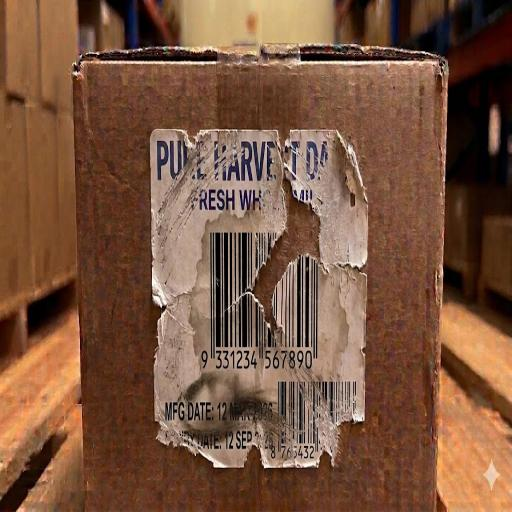damaged_labelrotation: (157, 138, 366, 467)
labelrotation: (155, 134, 369, 468)
